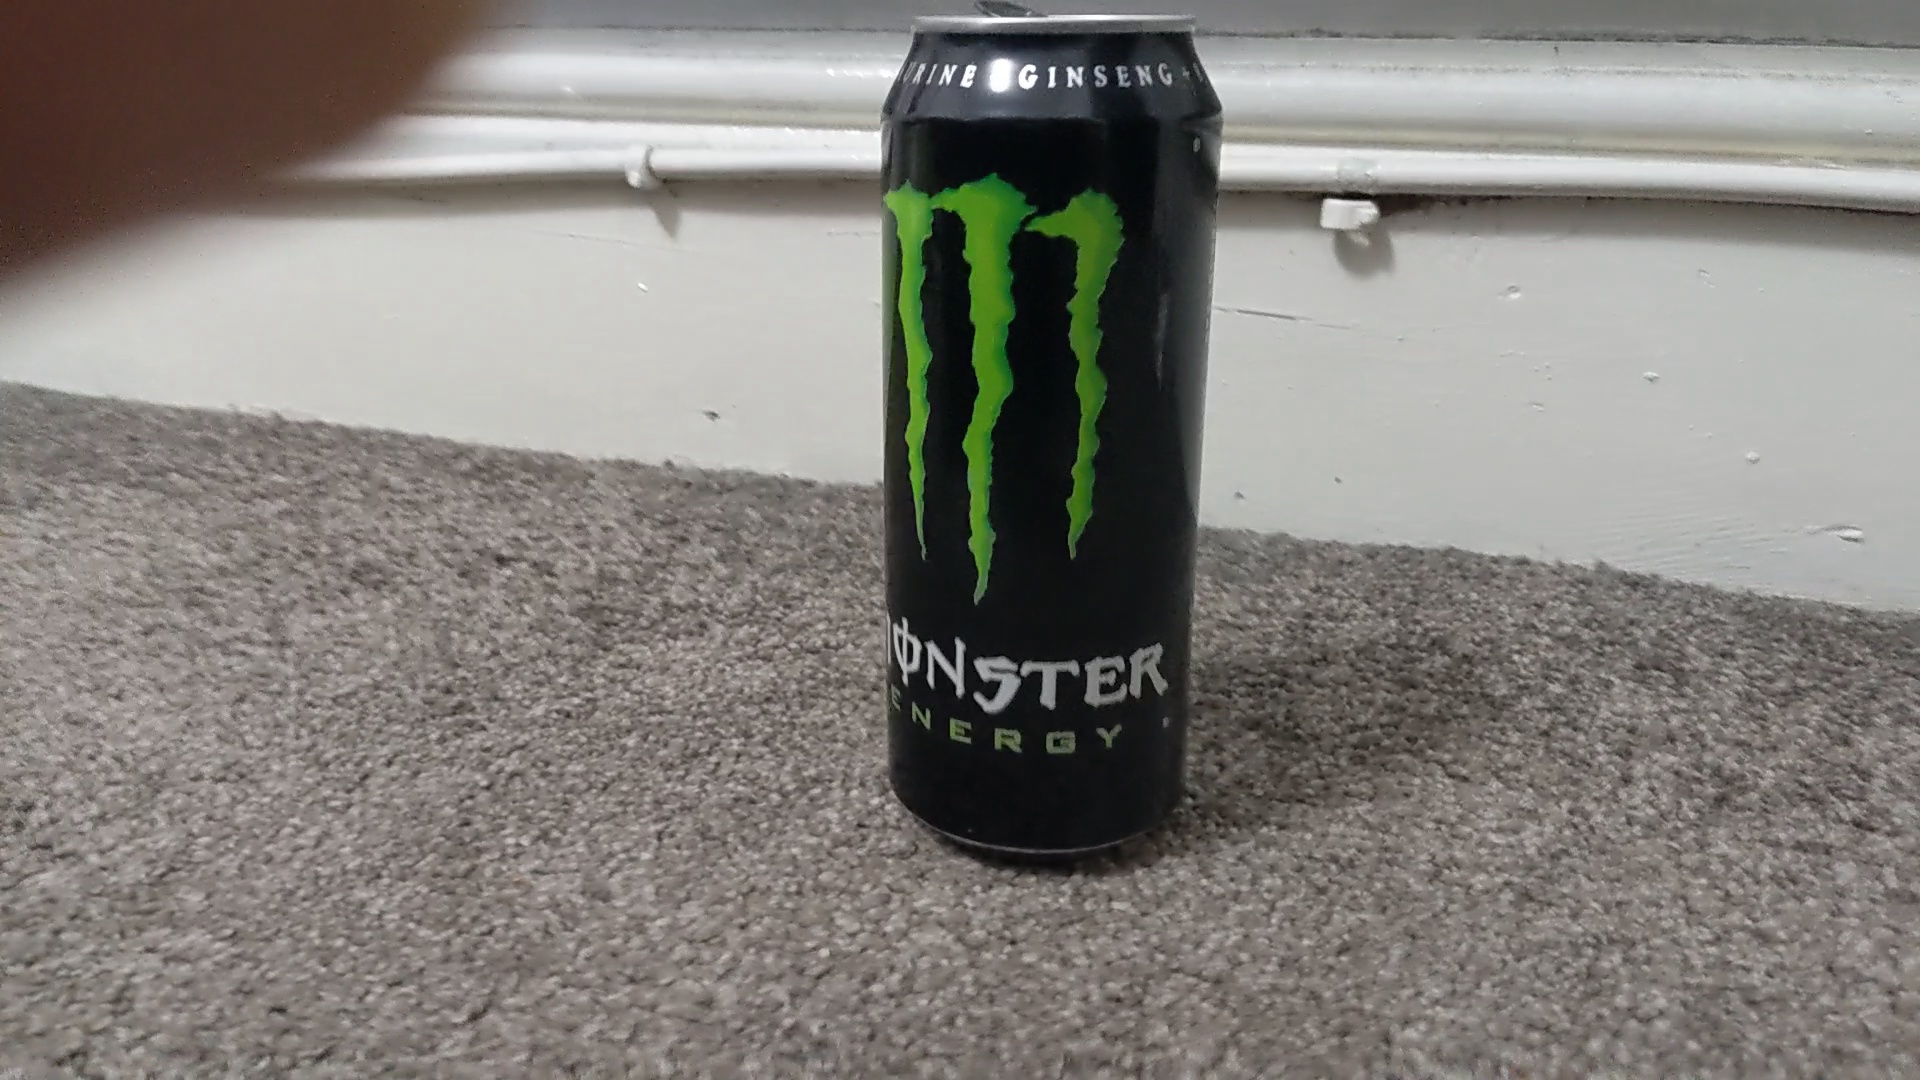monster-original: (877, 17, 1222, 861)
